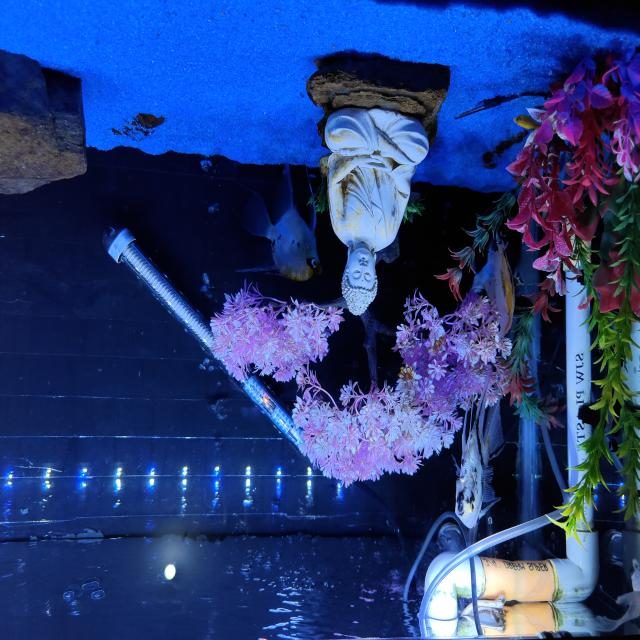Fish: (239, 163, 321, 280), (456, 377, 504, 527), (472, 241, 515, 337), (588, 558, 639, 631), (514, 114, 540, 129)
